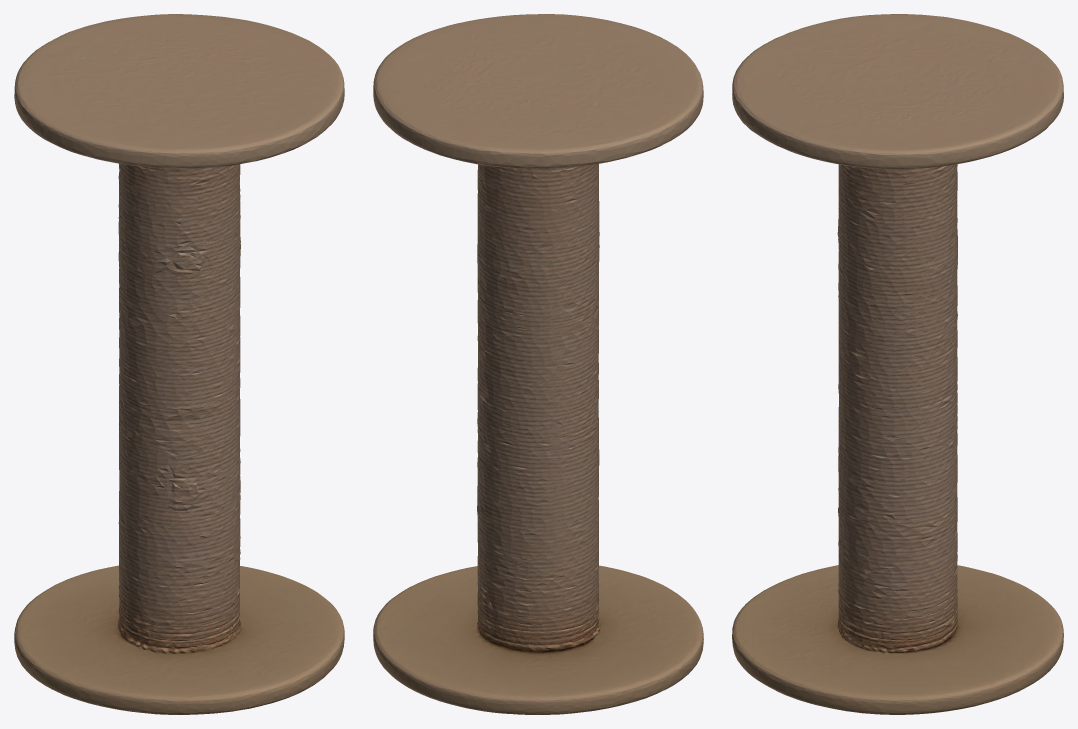
Rendered from ktochka_3.glb.
The picture shows the model from 3 angles, left to right: view 1: azimuth 30°, elevation 25°; view 2: azimuth 150°, elevation 25°; view 3: azimuth 270°, elevation 25°; orthographic projection.
Parts seen in each view (by area): view 1: tripo_node_238a72b6-f0c8-466a-bf5f-2bb8969bd1db; view 2: tripo_node_238a72b6-f0c8-466a-bf5f-2bb8969bd1db; view 3: tripo_node_238a72b6-f0c8-466a-bf5f-2bb8969bd1db.
Boxes of the visible parts, x1,y1,x2,y2 form: tripo_node_238a72b6-f0c8-466a-bf5f-2bb8969bd1db: (14, 14, 344, 714); tripo_node_238a72b6-f0c8-466a-bf5f-2bb8969bd1db: (373, 14, 703, 714); tripo_node_238a72b6-f0c8-466a-bf5f-2bb8969bd1db: (732, 14, 1063, 714).
Bounding box in the file's own units: 0.5317 × 1 × 0.5305.
Materials: 1 (1 with a texture image).
